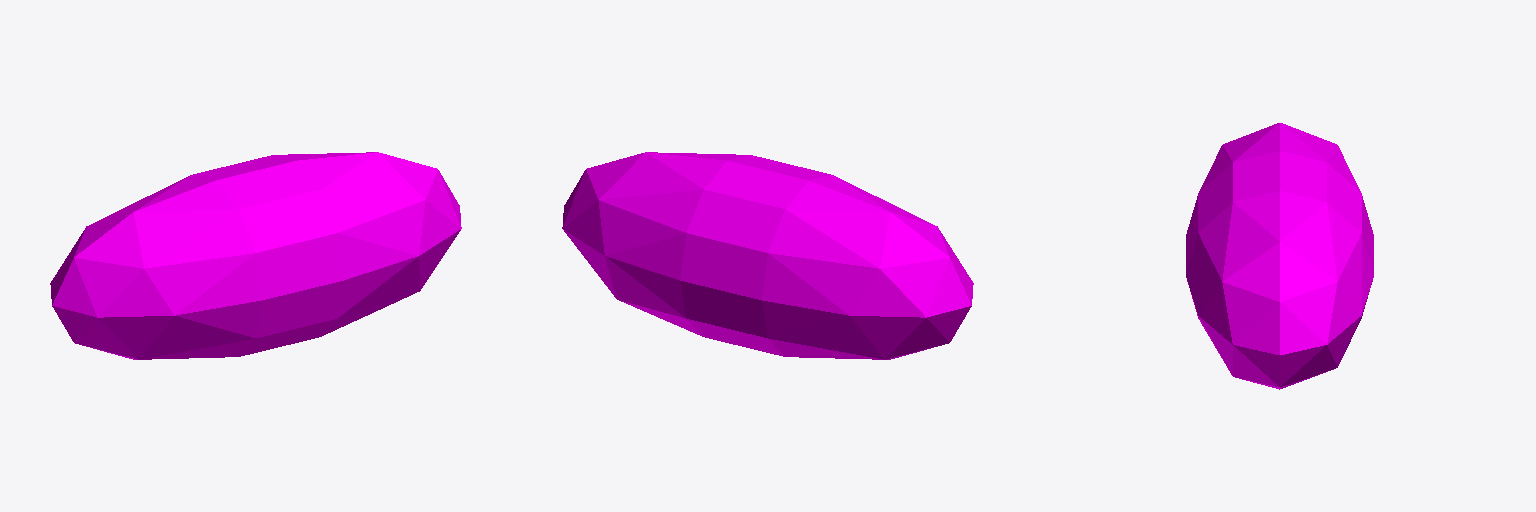
File: NeedlerAmmo.obj
The picture shows the model from 3 angles: view 1: azimuth 30°, elevation 25°; view 2: azimuth 150°, elevation 25°; view 3: azimuth 270°, elevation 25°; orthographic projection.
Visible parts, largest first — view 1: the_node.012_tri_576_geometry.001; view 2: the_node.012_tri_576_geometry.001; view 3: the_node.012_tri_576_geometry.001.
Part boxes in pixels (left/top/right/bottom): the_node.012_tri_576_geometry.001: left=50, top=152, right=461, bottom=359; the_node.012_tri_576_geometry.001: left=562, top=152, right=973, bottom=359; the_node.012_tri_576_geometry.001: left=1186, top=123, right=1373, bottom=389.
Size of the model in its own units: 0.25 by 0.1 by 0.1.